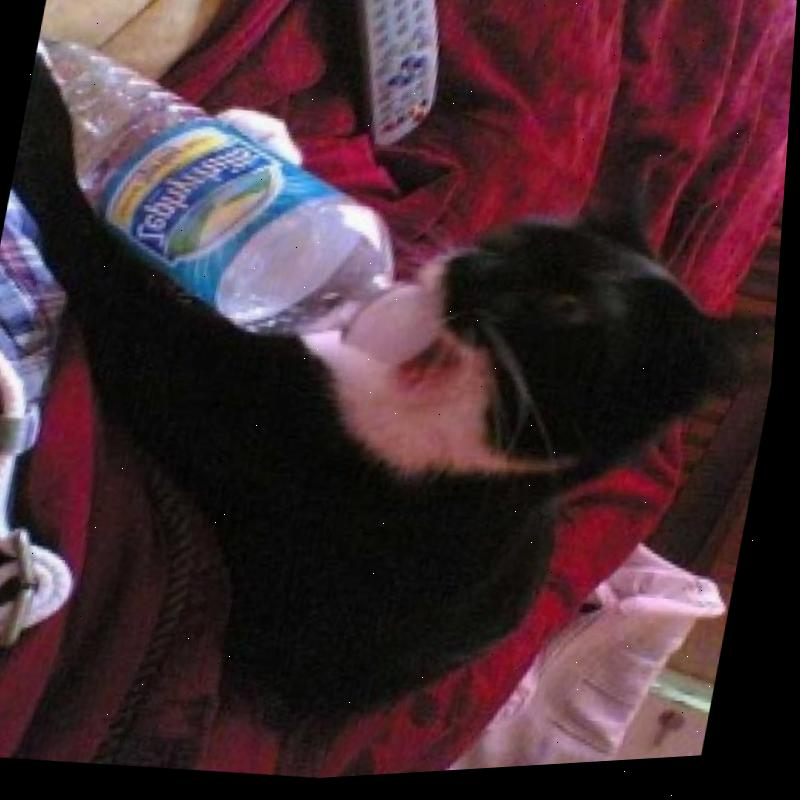botella: (0, 18, 488, 394)
